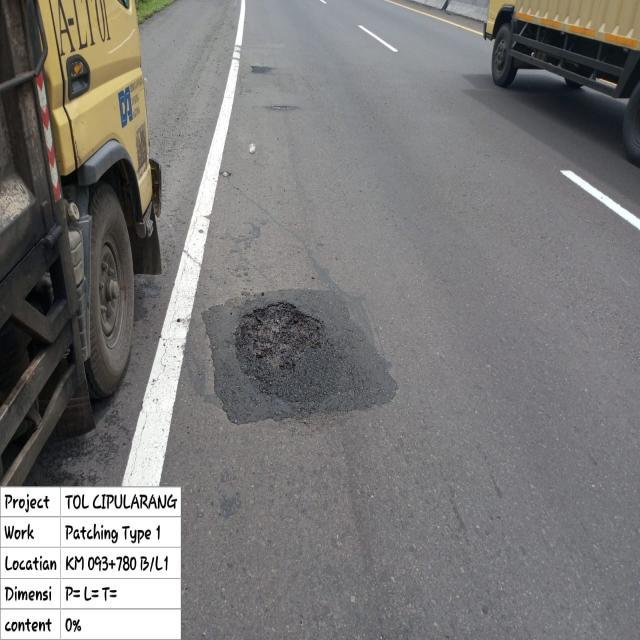Buraco: (230, 299, 327, 373)
